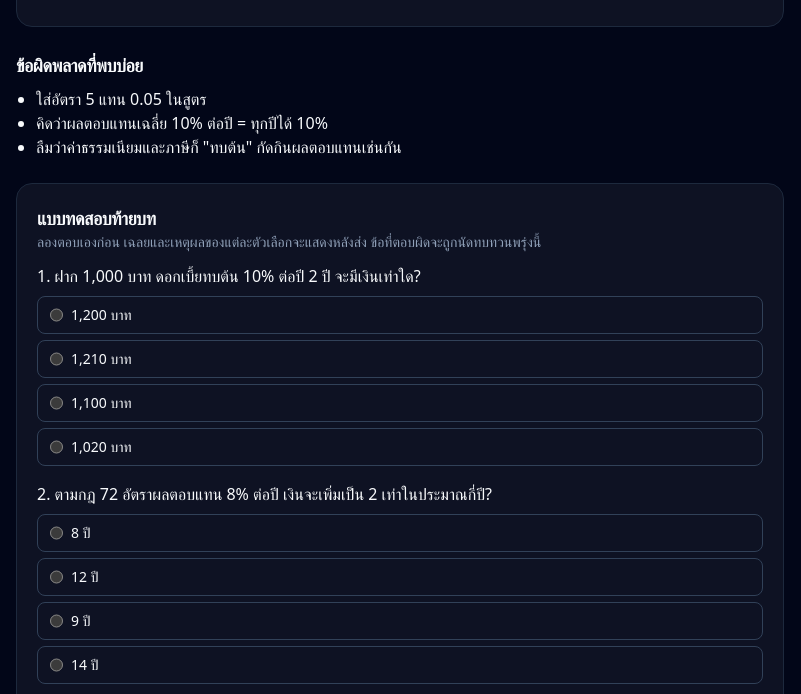
learning flow › quiz scores against the answer key, shows explanations, and schedules wrong answers for review
(page scrolled)
// Q1 correct (1,210), Q2 wrong (8 ปี), Q3 correct (ผลตอบแทนคงที่)
Click the radio button labelled "1,210 บาท" at (56, 359), box [50,349,63,369]
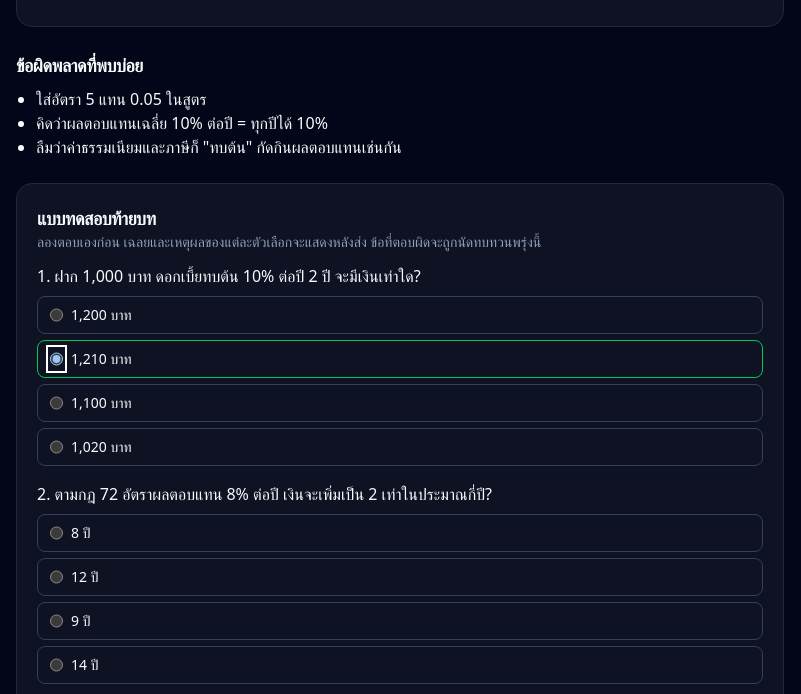
Click the radio button labelled "8 ปี" at (56, 533), box [50,523,63,543]
(page scrolled)
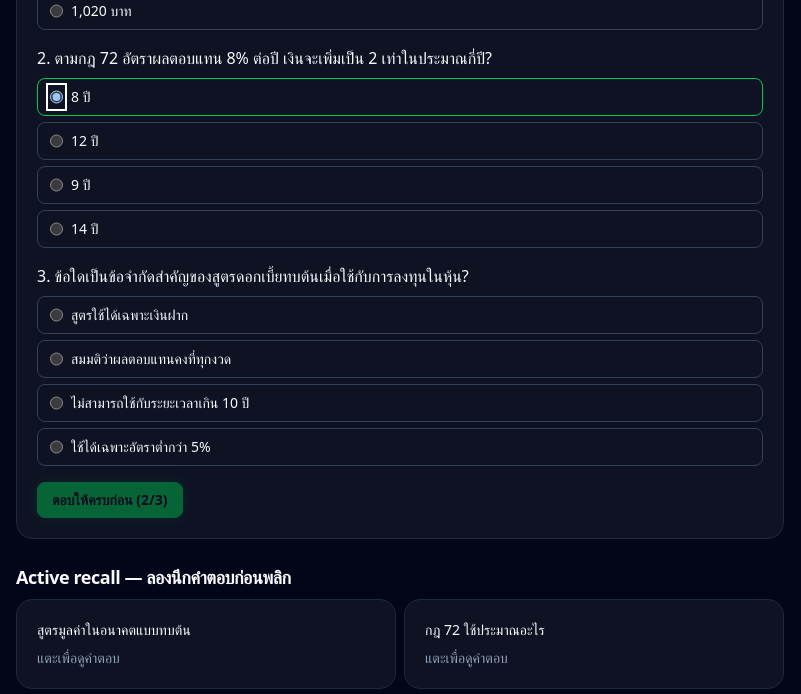
Click the radio button labelled "สมมติว่าผลตอบแทนคงที่ทุกงวด" at (56, 359), box [50,349,63,369]
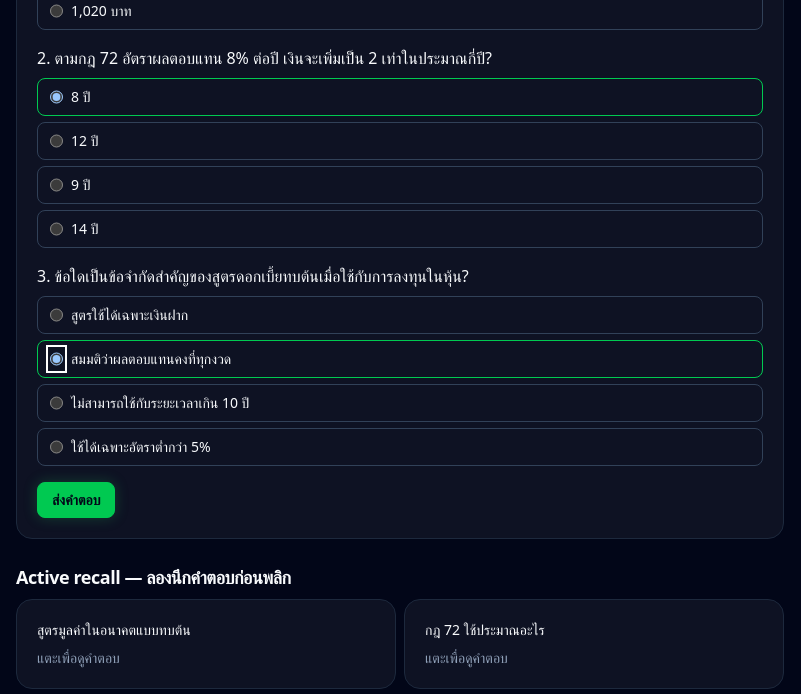
Click the button "ส่งคำตอบ" at (76, 500), box [37,482,116,518]
(page scrolled)
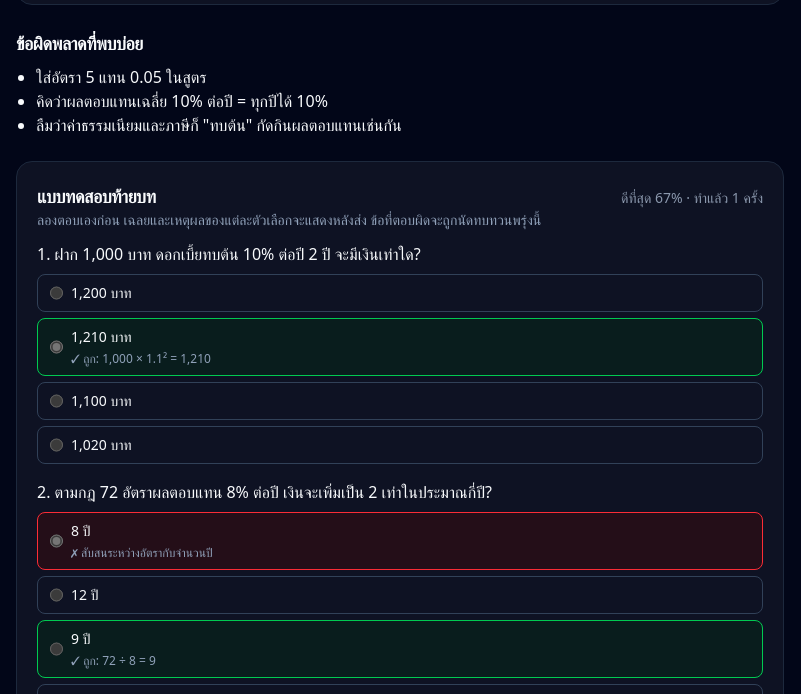
Now the text "✓ ถูก: 1,000 × 1.1² = 1,210" is shown, box [71,350,211,367]
